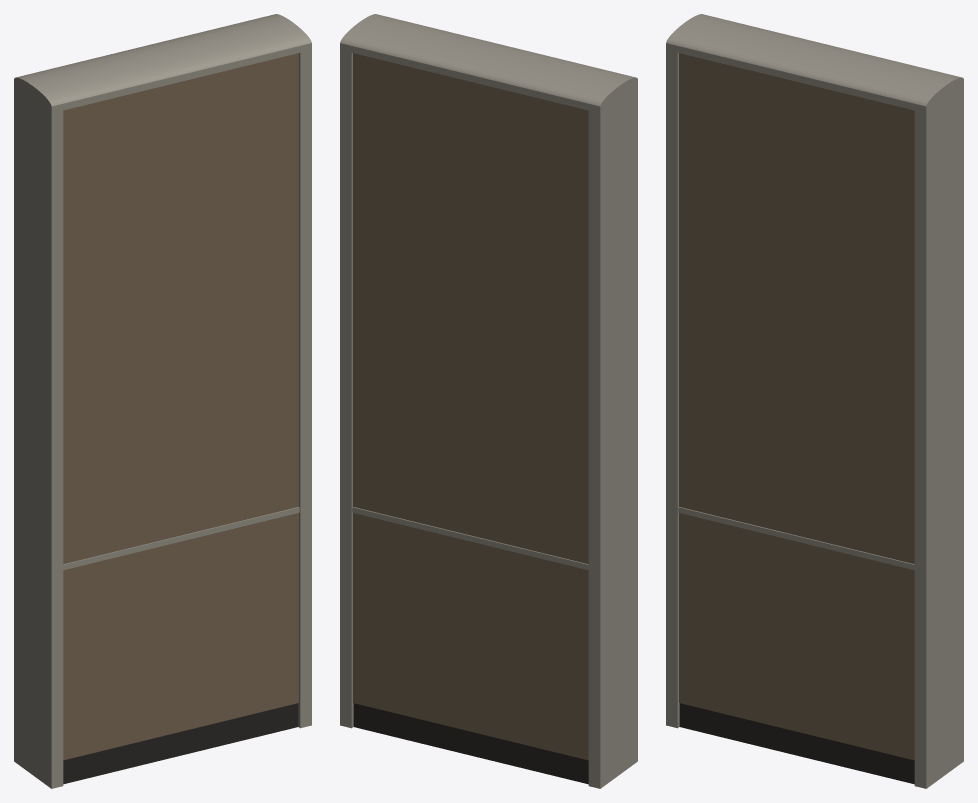
File: SM_CubiclePanel80s_100.glb
3 views of the same model, side by side, from view 1: azimuth 30°, elevation 25°; view 2: azimuth 150°, elevation 25°; view 3: azimuth 330°, elevation 25° (orthographic).
Visible parts, largest first — view 1: SM_CubiclePanel80s_100; view 2: SM_CubiclePanel80s_100; view 3: SM_CubiclePanel80s_100.
Part boxes in pixels (x1,y1,x2,y2): SM_CubiclePanel80s_100: (14,14,311,788); SM_CubiclePanel80s_100: (340,14,637,788); SM_CubiclePanel80s_100: (666,14,963,788).
Bounding box in the file's own units: 1 × 2.53 × 0.25.
